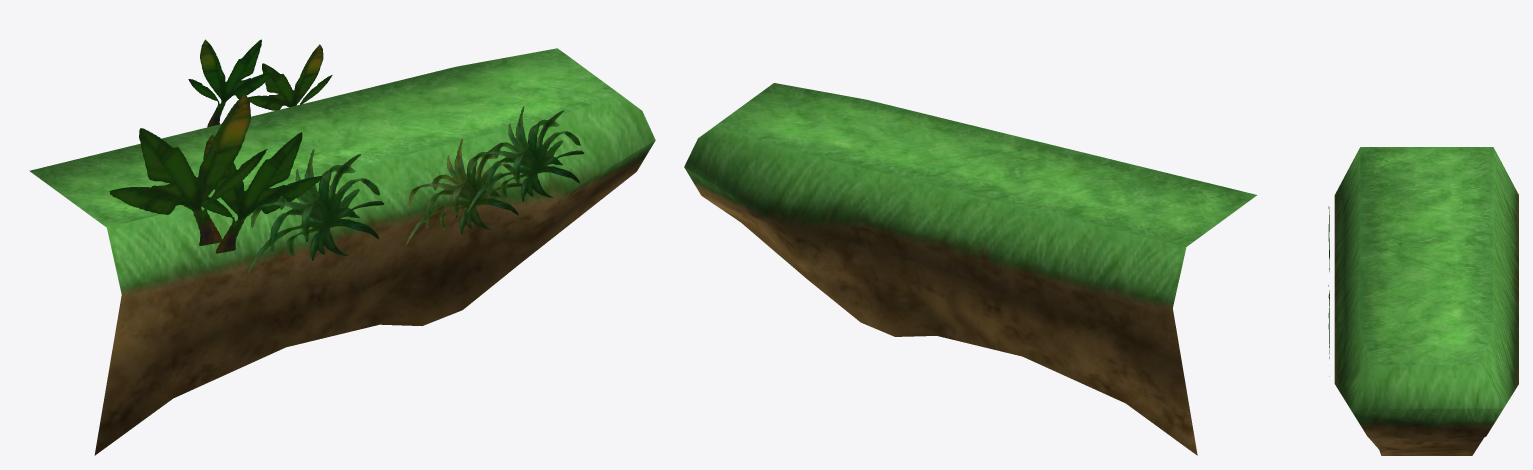
The model's file is vine_start.glb.
3 views of the same model, side by side, from view 1: azimuth 30°, elevation 25°; view 2: azimuth 150°, elevation 25°; view 3: azimuth 270°, elevation 25° (orthographic). The views are drawn at different scales.
Visible parts, largest first — view 1: start_platform, pPlane13, pPlane15, pPlane16, pPlane14, pPlane12, pPlane11, pPlane10; view 2: start_platform; view 3: start_platform.
Boxes of the visible parts, x1,y1,x2,y2 form: start_platform: (29,48,655,455); pPlane13: (109,94,267,245); pPlane15: (247,149,384,275); pPlane16: (201,132,322,253); pPlane14: (466,106,584,214); pPlane12: (405,138,521,246); pPlane11: (188,39,274,126); pPlane10: (247,44,332,110); start_platform: (684,83,1256,455); start_platform: (1334,147,1518,455).
Bounding box in the file's own units: 41.6 × 27.36 × 15.23.
4 materials, 4 textured.
